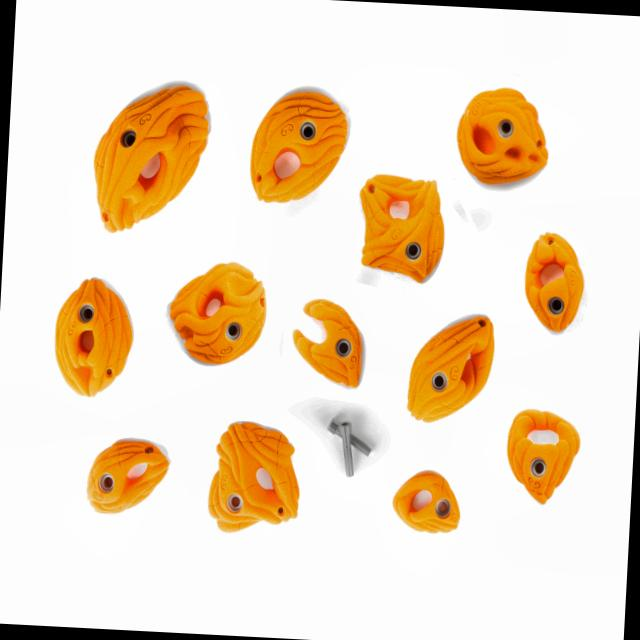Hold: (86, 77, 214, 241), (248, 88, 354, 205), (204, 418, 300, 536), (352, 167, 447, 283), (403, 310, 498, 424), (52, 275, 138, 398), (167, 262, 267, 364), (456, 85, 550, 186), (288, 296, 372, 390), (84, 434, 174, 520), (504, 408, 580, 502), (522, 230, 585, 326), (388, 464, 464, 536)
